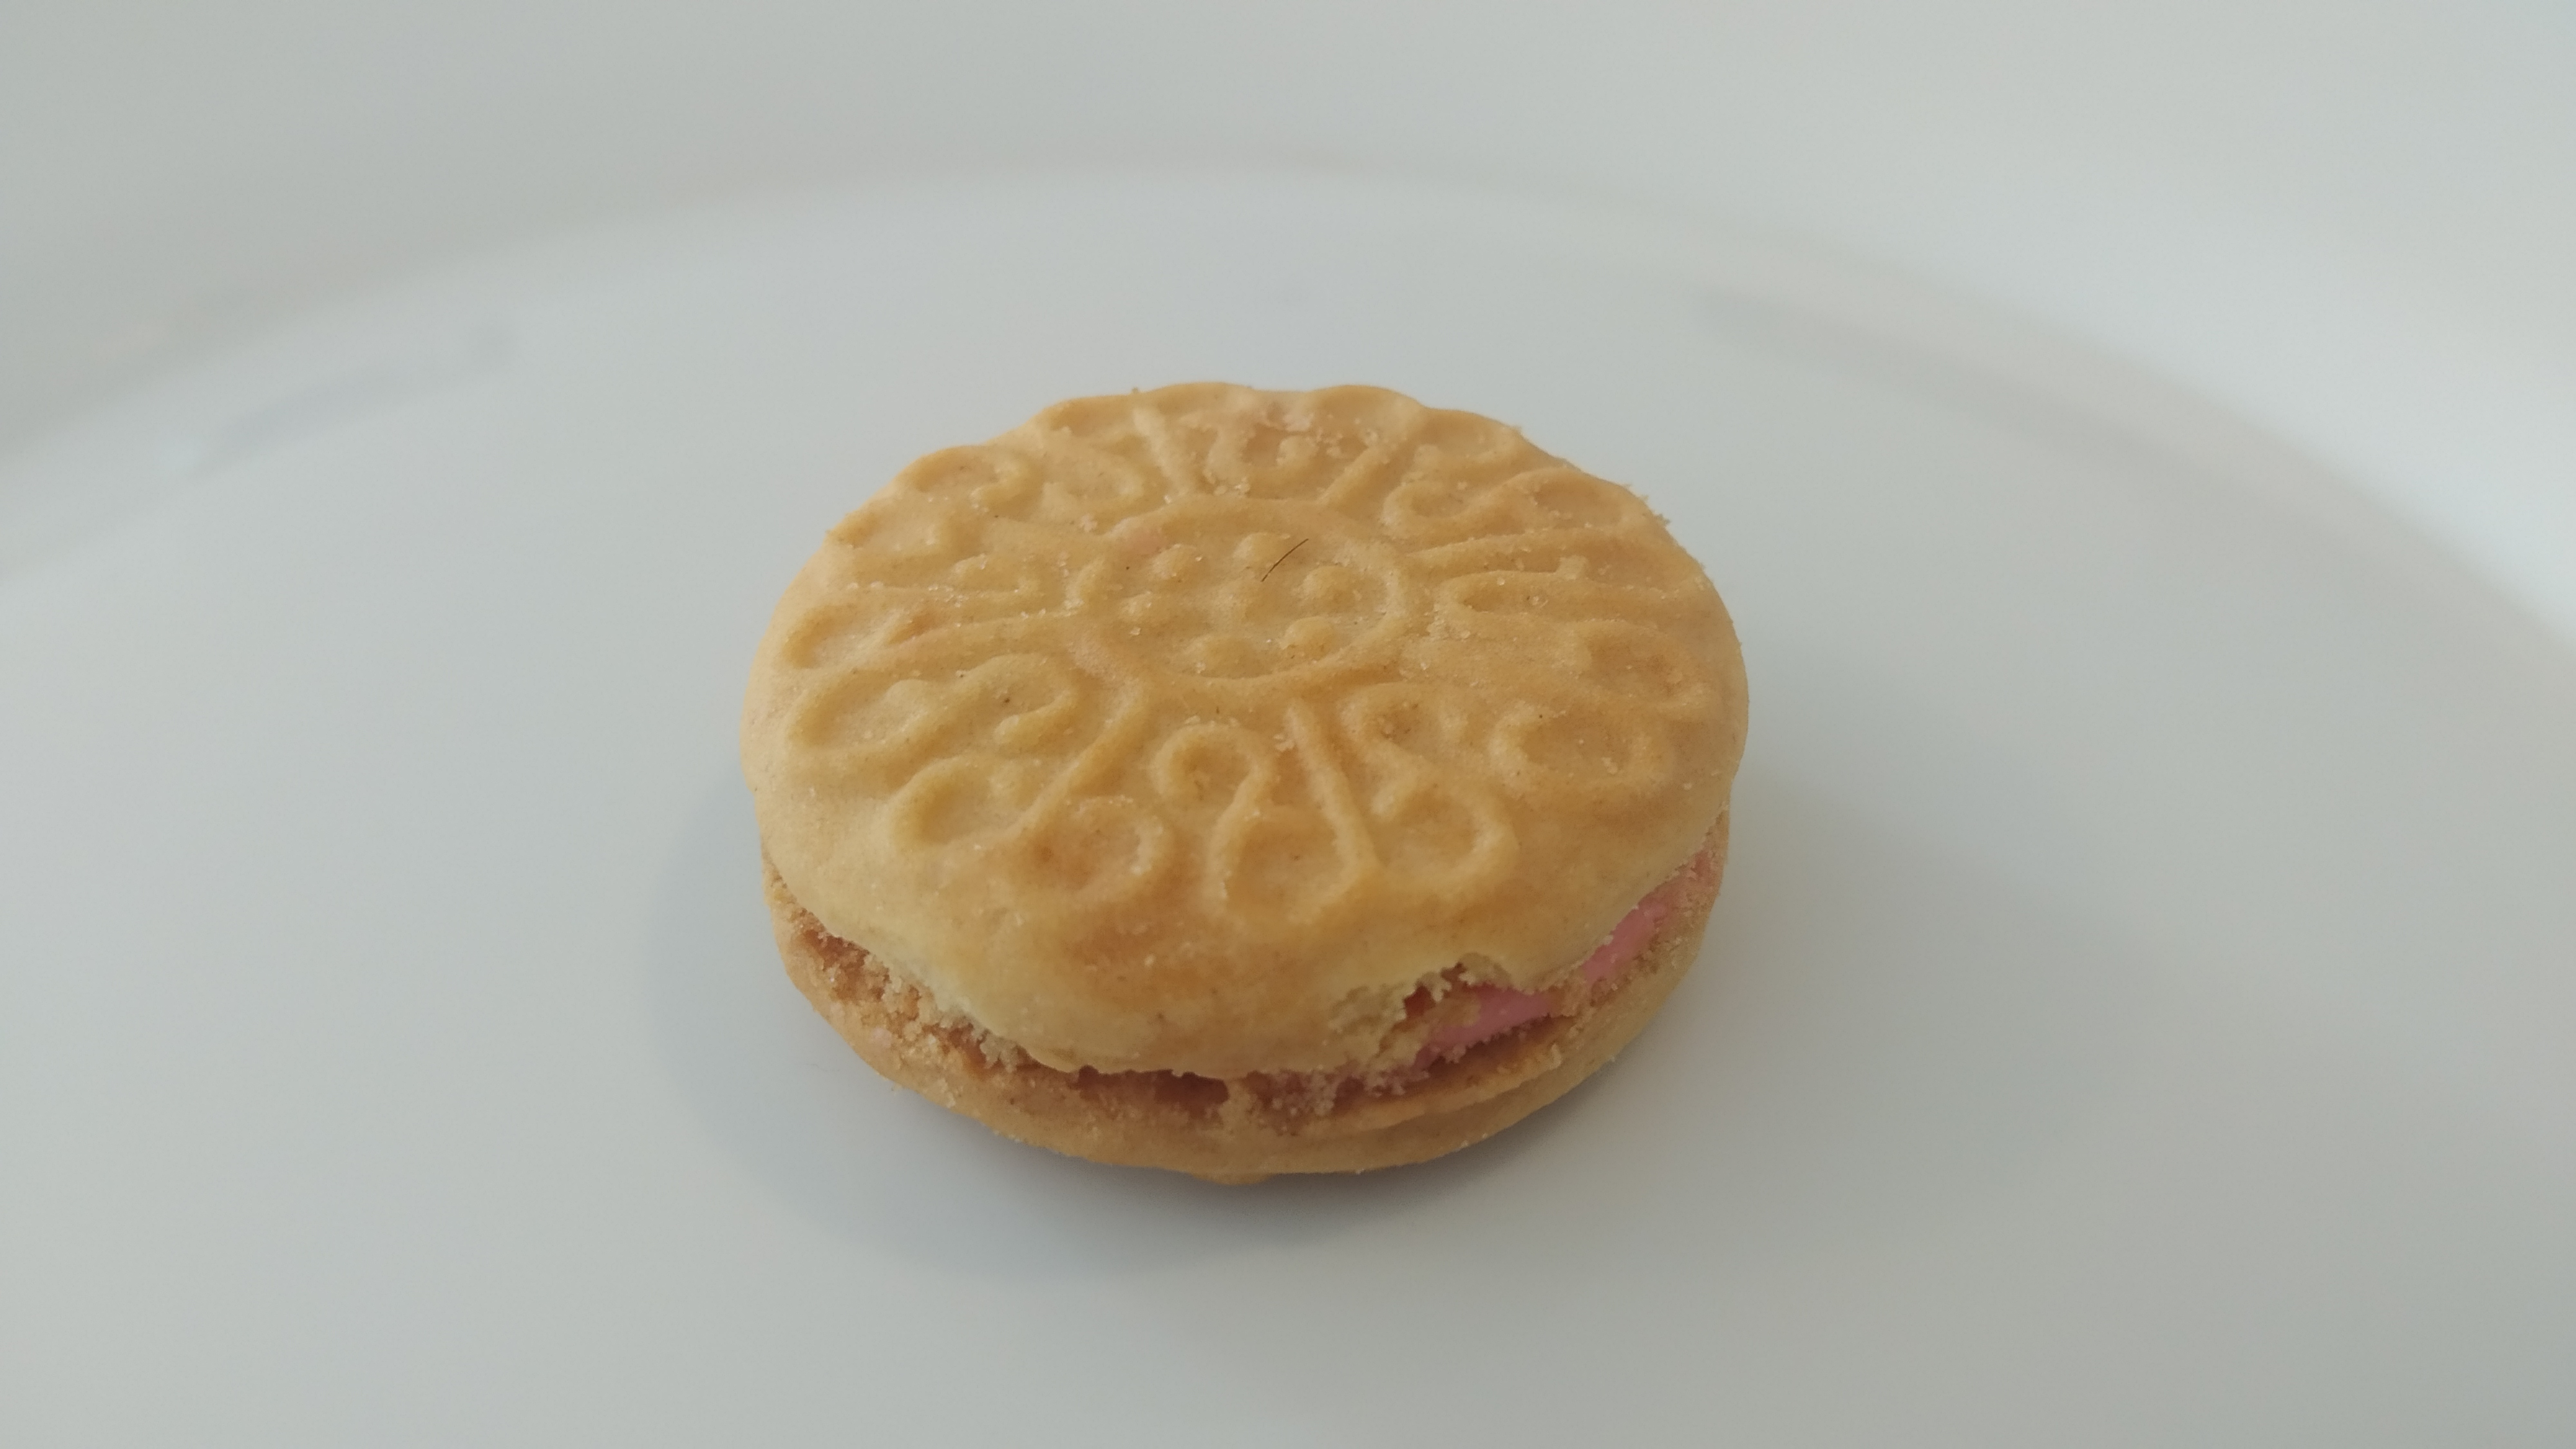lulu: (743, 380, 1752, 1185)
